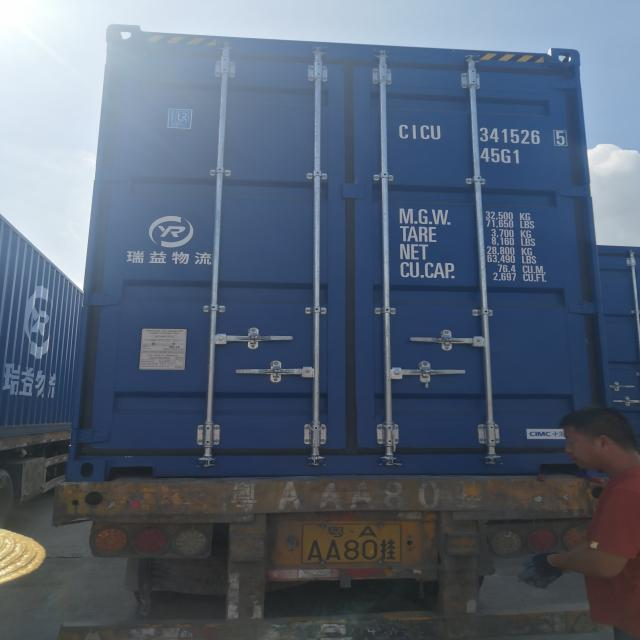ISO: (482, 146, 522, 164)
container_number: (392, 116, 571, 148)
